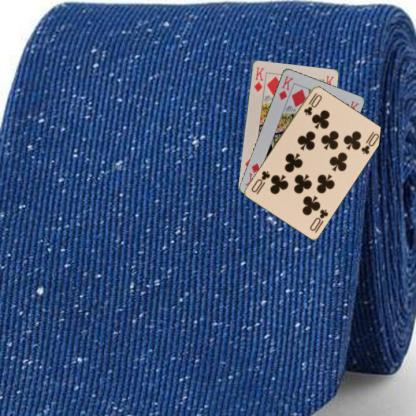10c: (301, 90, 323, 117), (307, 206, 329, 232)
Kd: (276, 73, 295, 101), (251, 64, 266, 93)
